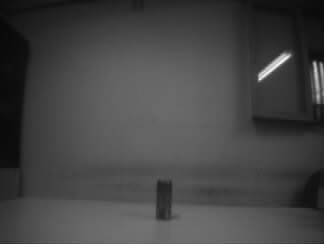Tin can: (154, 177, 173, 222)
